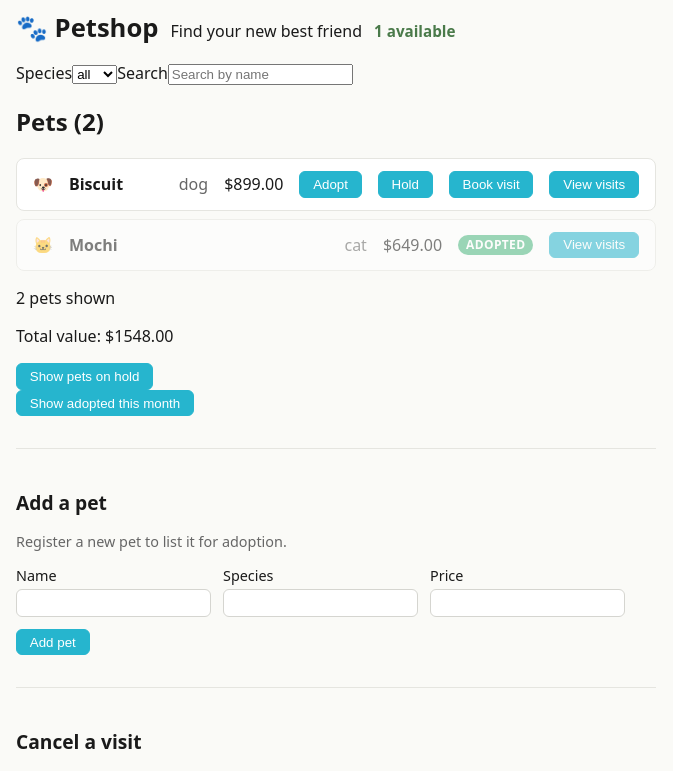
it: App › shows an explicit empty state for a pet with no upcoming visits
Expected: the text "Biscuit" is shown, [69, 173, 123, 195]
Click the button "View visits" in the row of "Biscuit": coordinates (594, 184) [549, 171, 639, 198]
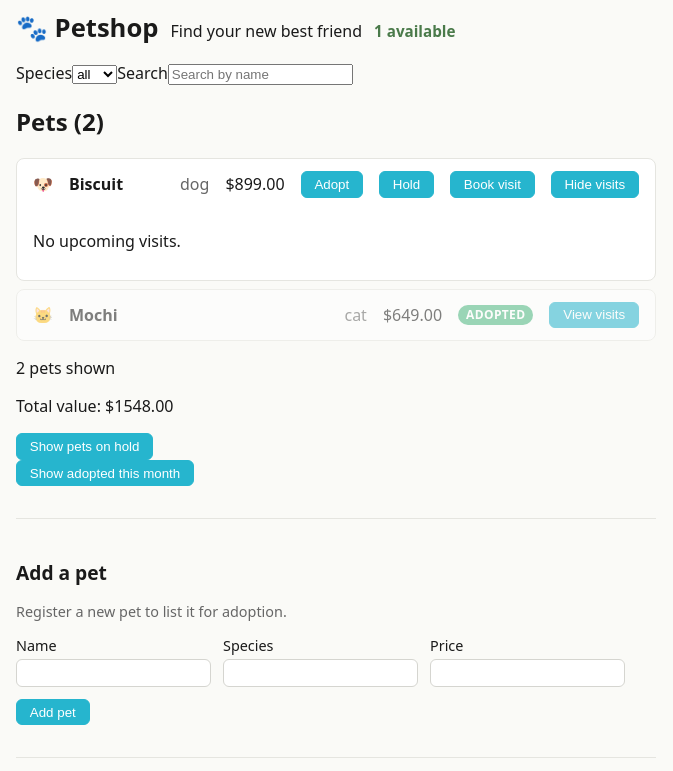
Expected: the text "No upcoming visits." is shown, [33, 230, 181, 252]
